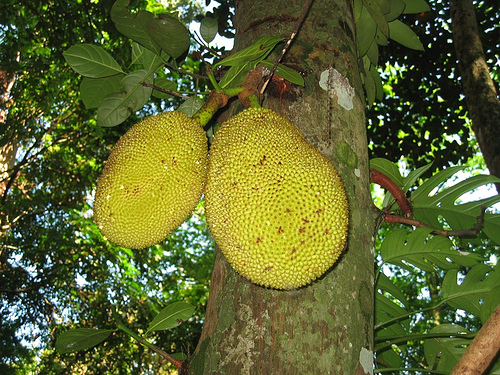jackfruit: (201, 104, 354, 295), (92, 93, 226, 250)
